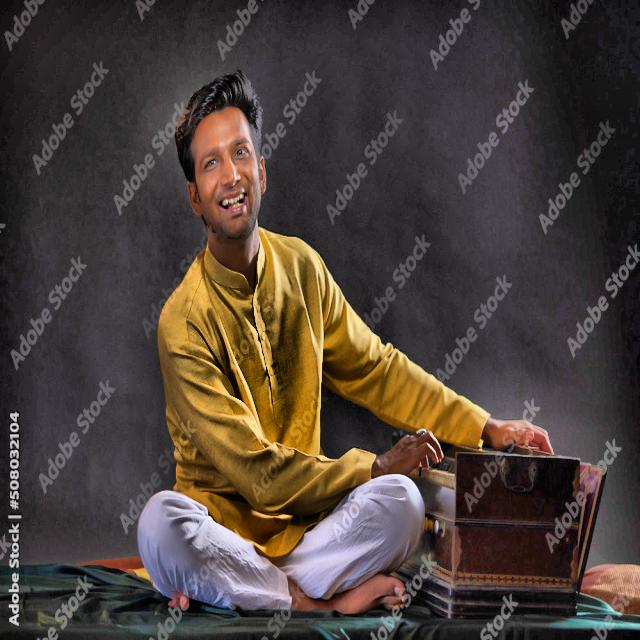Human: (121, 71, 518, 594)
